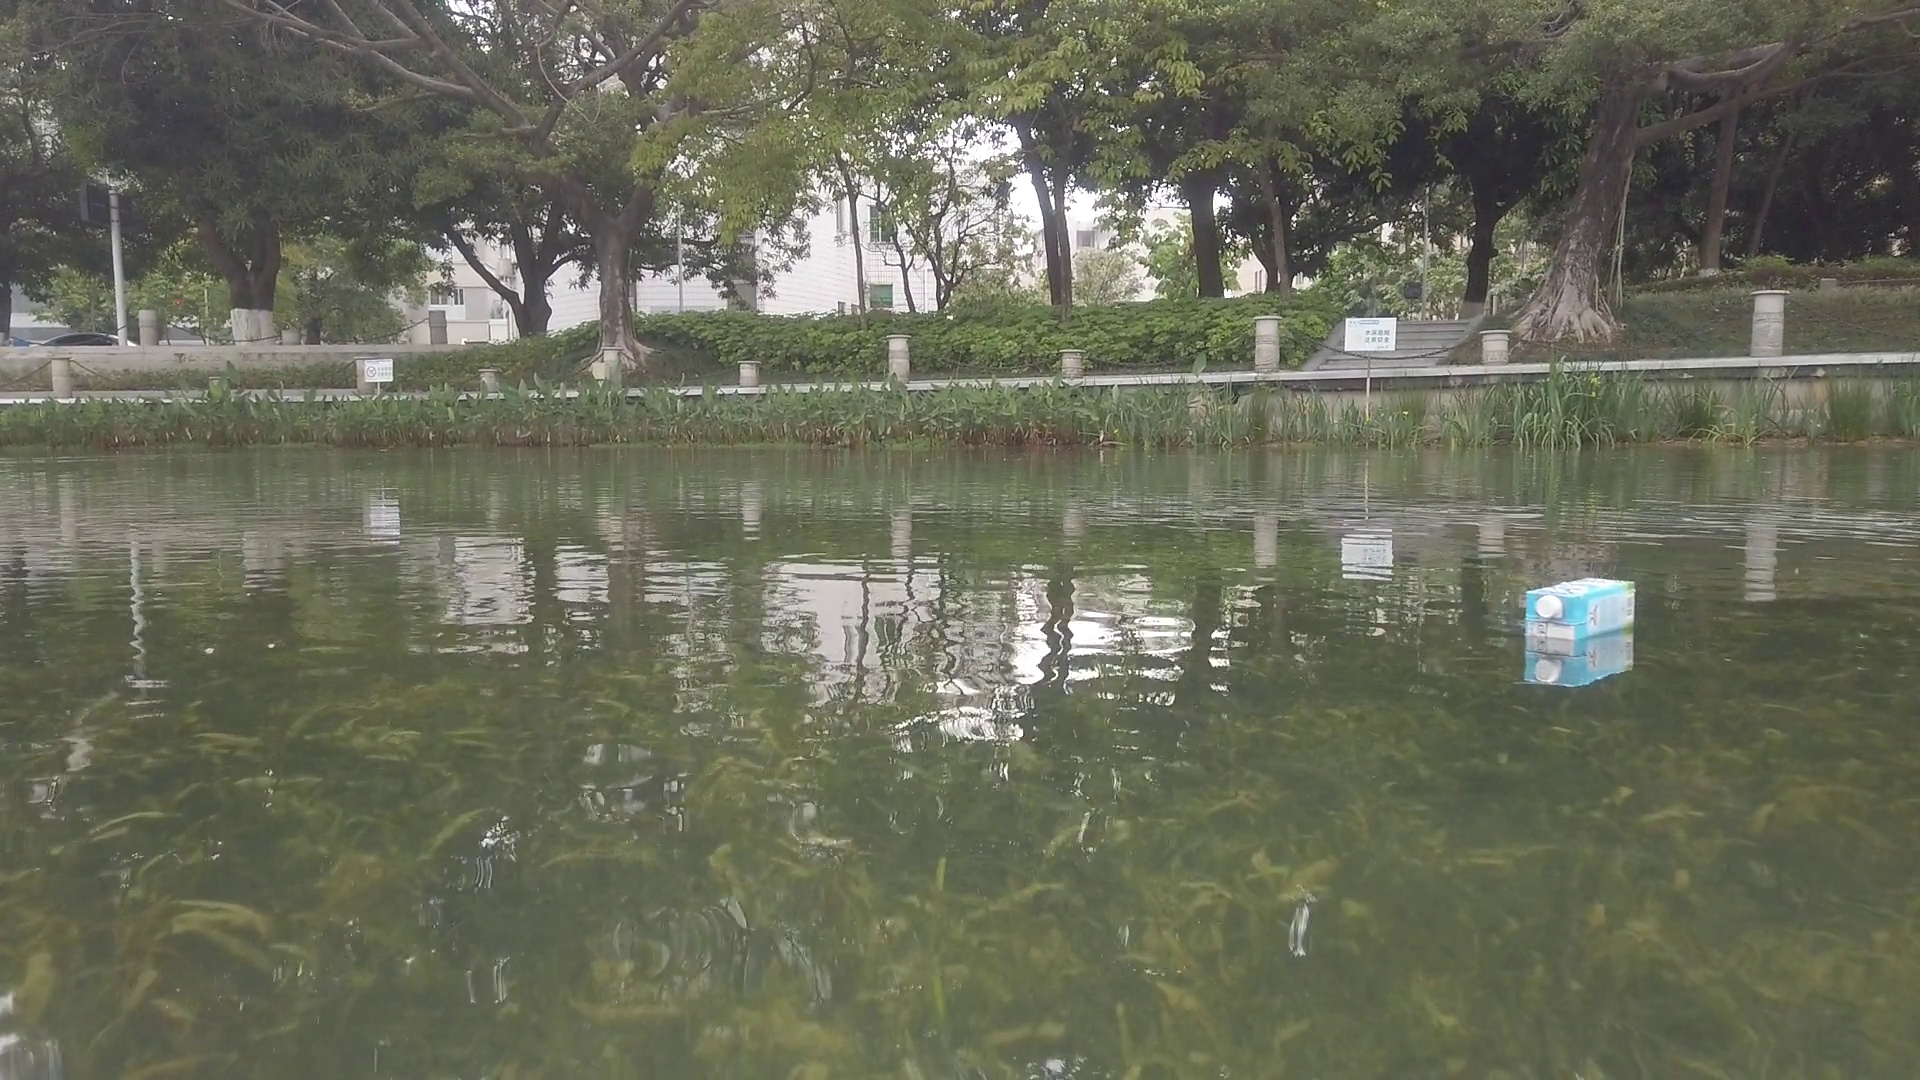carton: (1527, 578, 1636, 640)
